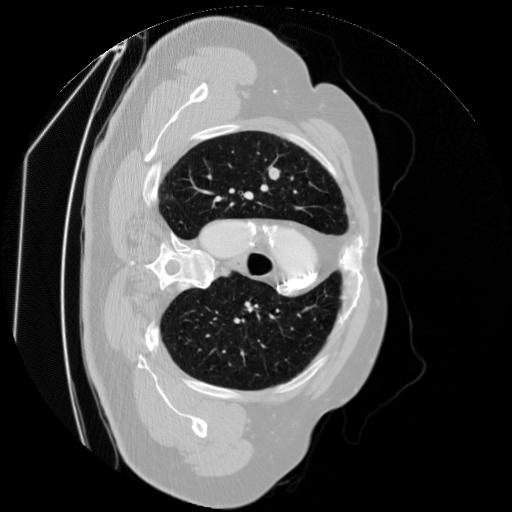nodule: (266, 167, 285, 186)
